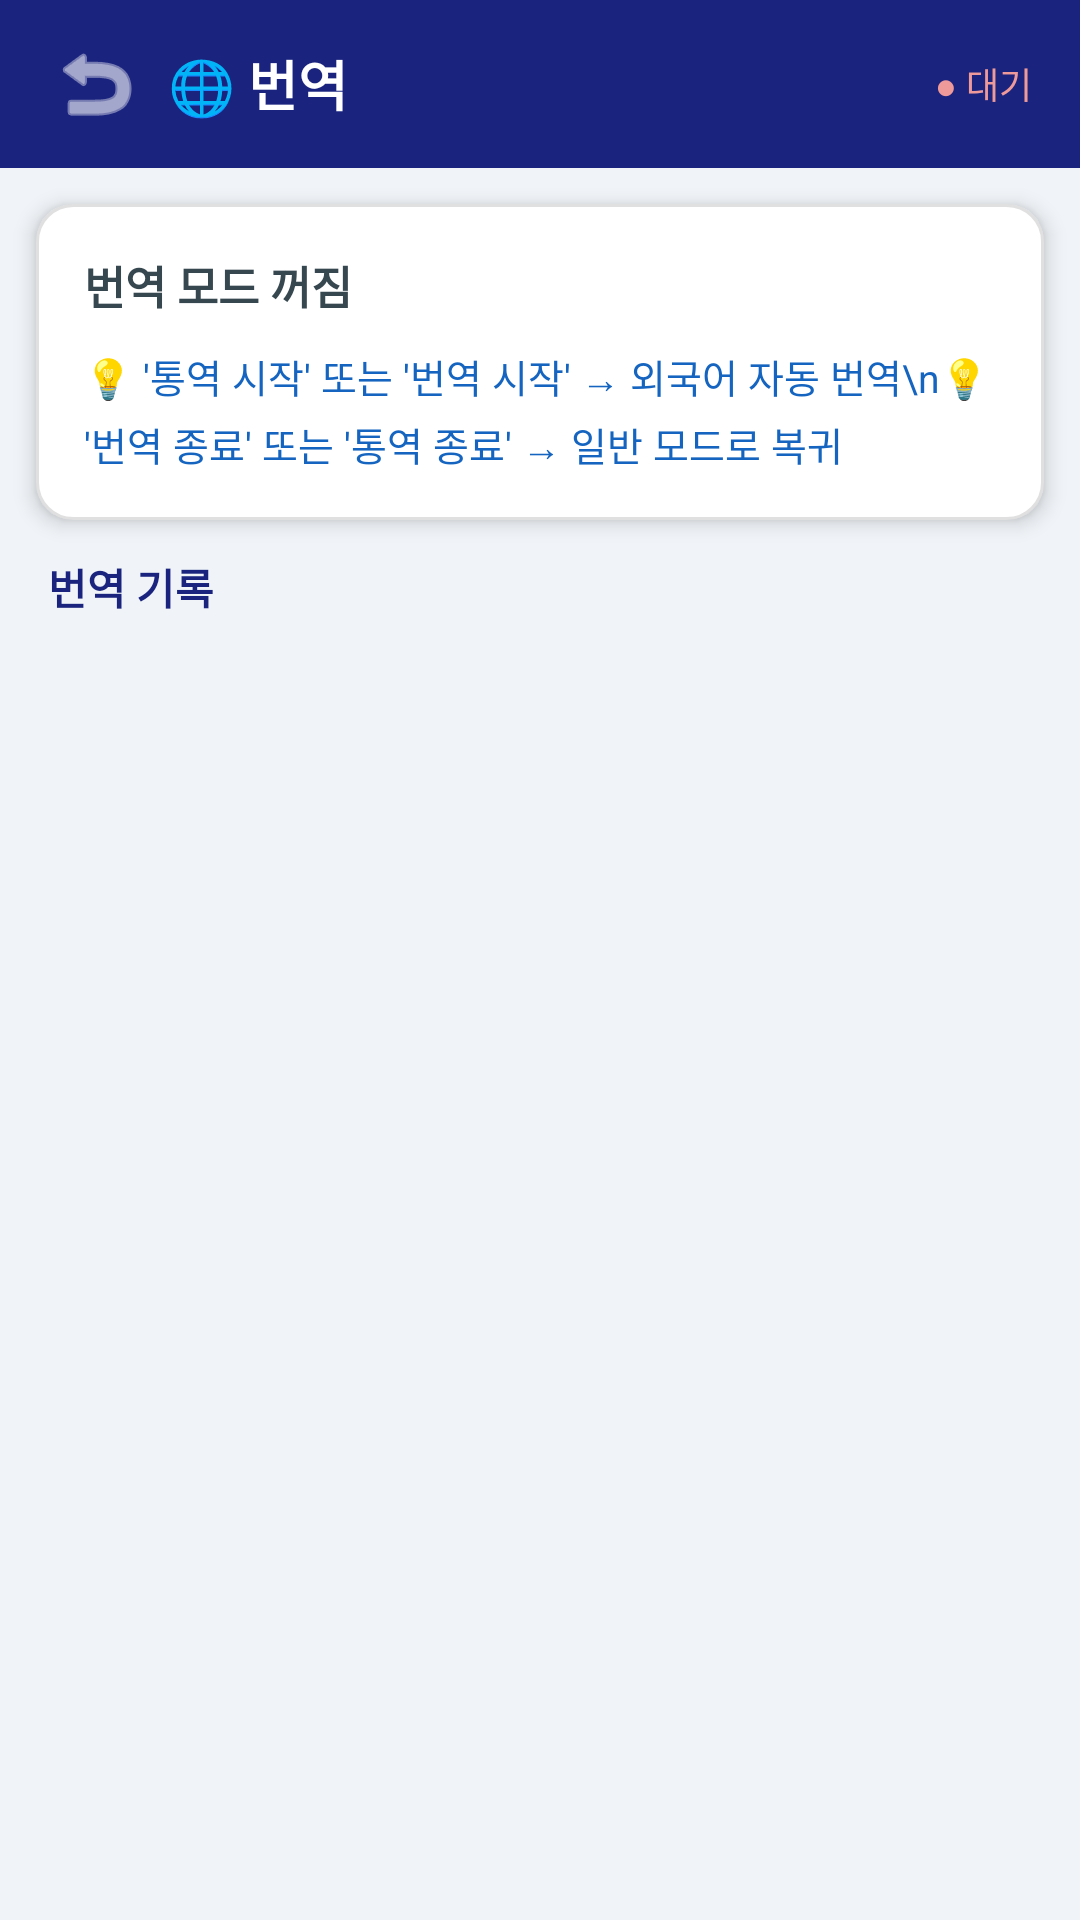

Icons on this 1080*1920 Android screen, each with its box as (x1=x1, y1=y1, x2=x2, y2=y2):
revert: (x1=63, y1=53, x2=132, y2=116)
